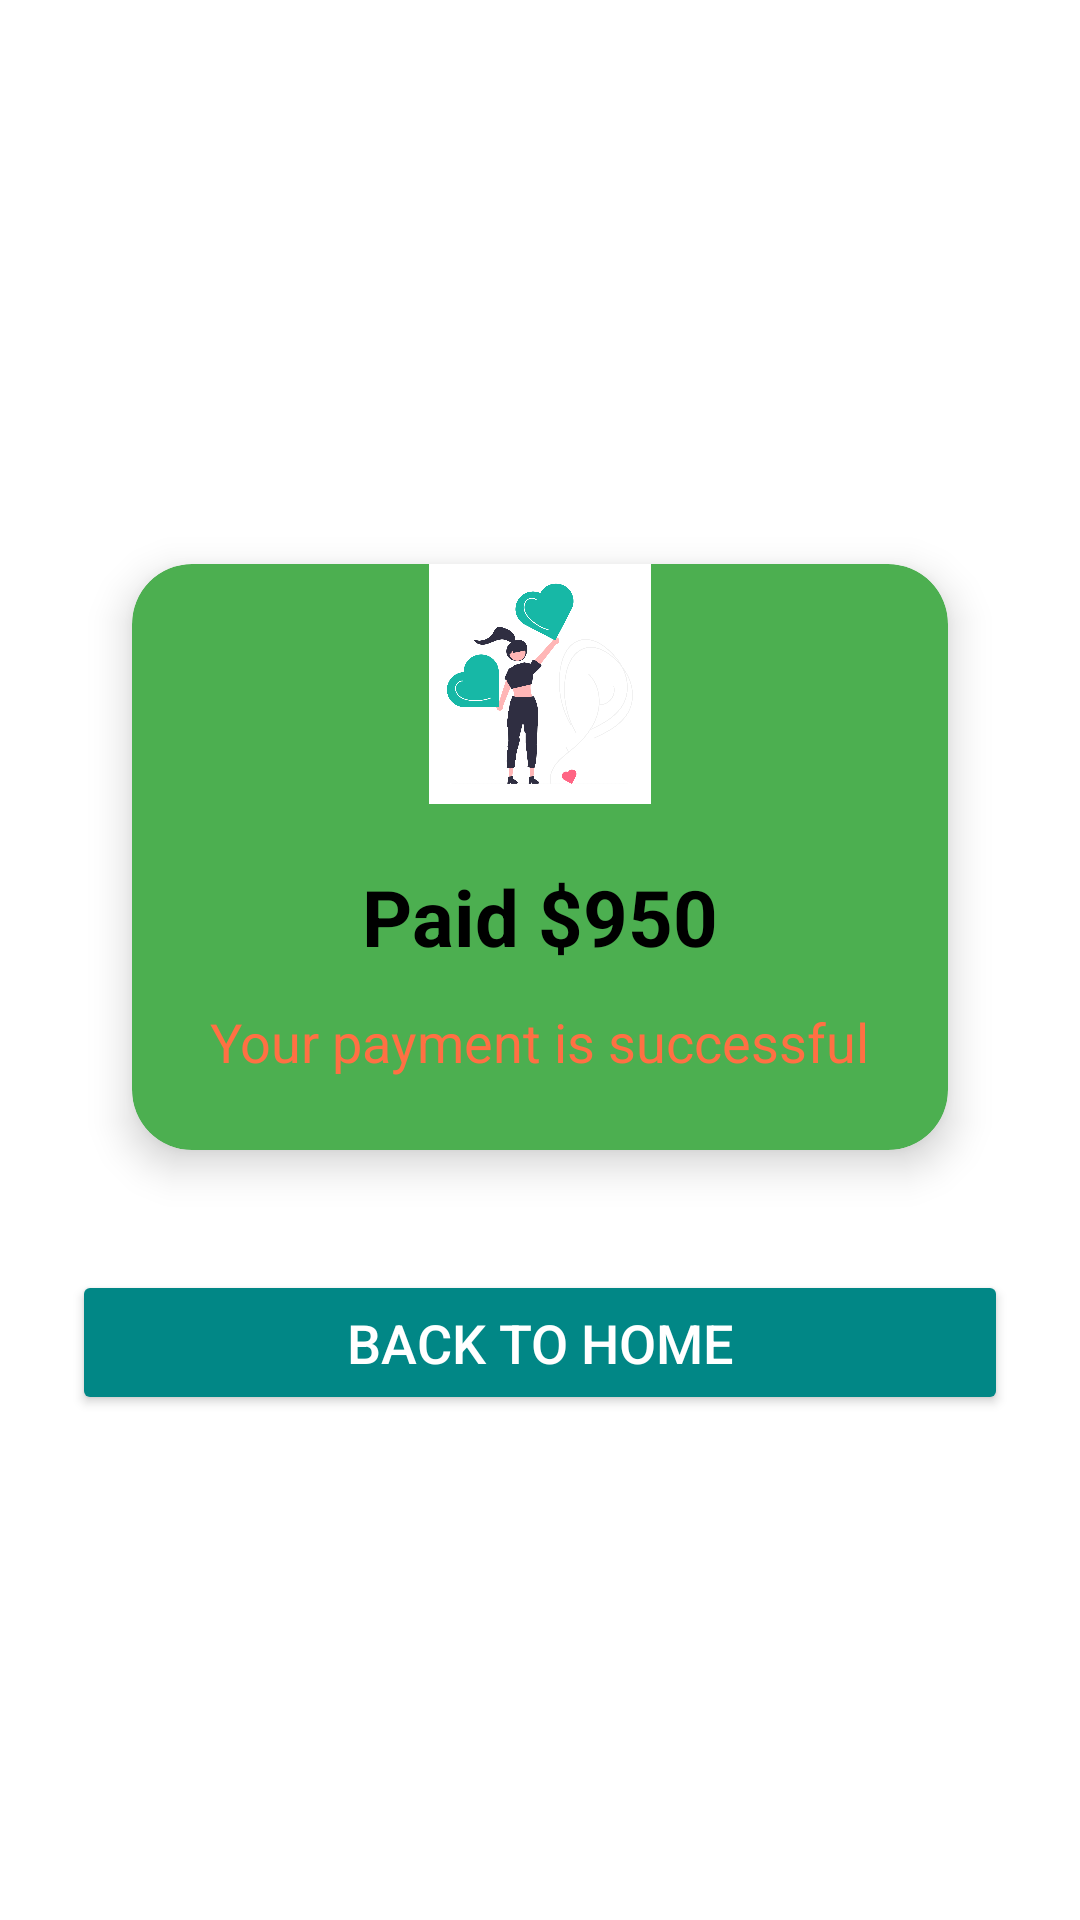

Named icons in this screenshot (1080*1920) and their centers, (x=x, y=y):
Success: (x=540, y=684)
